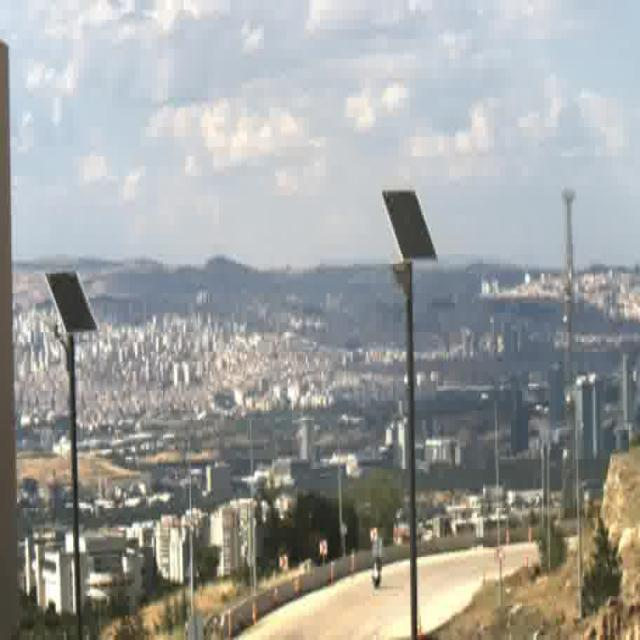Motorcycle: (372, 556, 382, 588)
